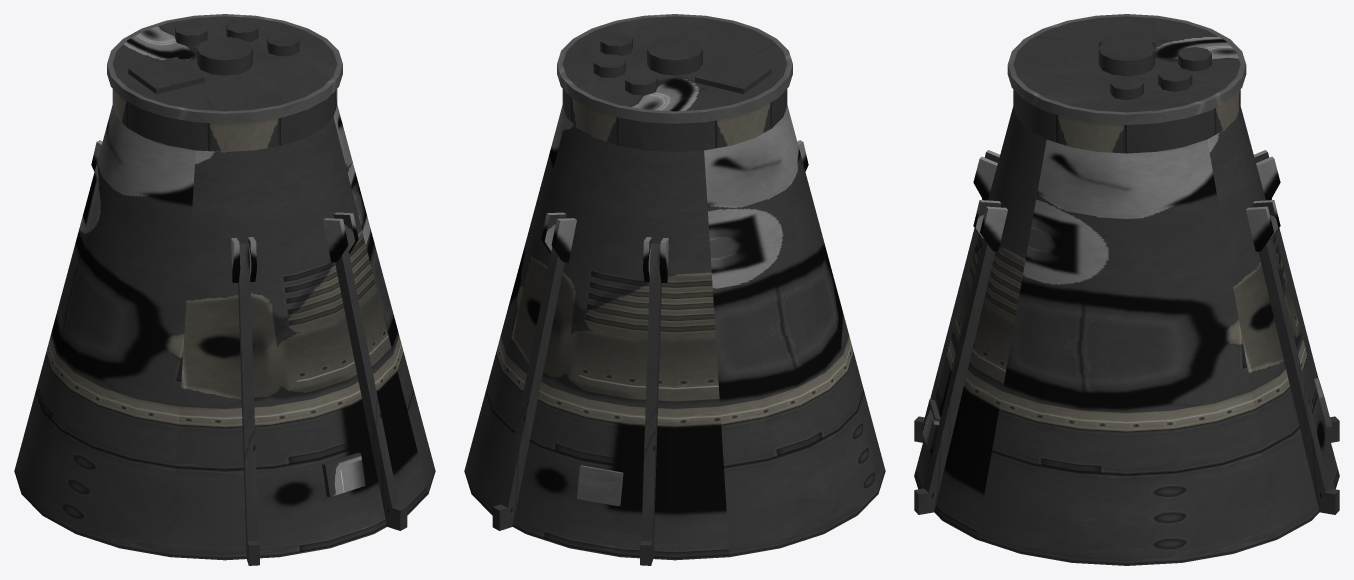
File: probe_core_thin.fbx
3 views of the same model, side by side, from view 1: azimuth 30°, elevation 25°; view 2: azimuth 150°, elevation 25°; view 3: azimuth 270°, elevation 25° (orthographic).
Visible parts, largest first — view 1: mesh; view 2: mesh; view 3: mesh.
Part boxes in pixels (box(x1,y1,x2,y2)): mesh: box(14, 14, 435, 565); mesh: box(464, 14, 885, 565); mesh: box(914, 14, 1339, 565).
Size of the model in its own units: 0.9375 by 1.09 by 0.9375.
